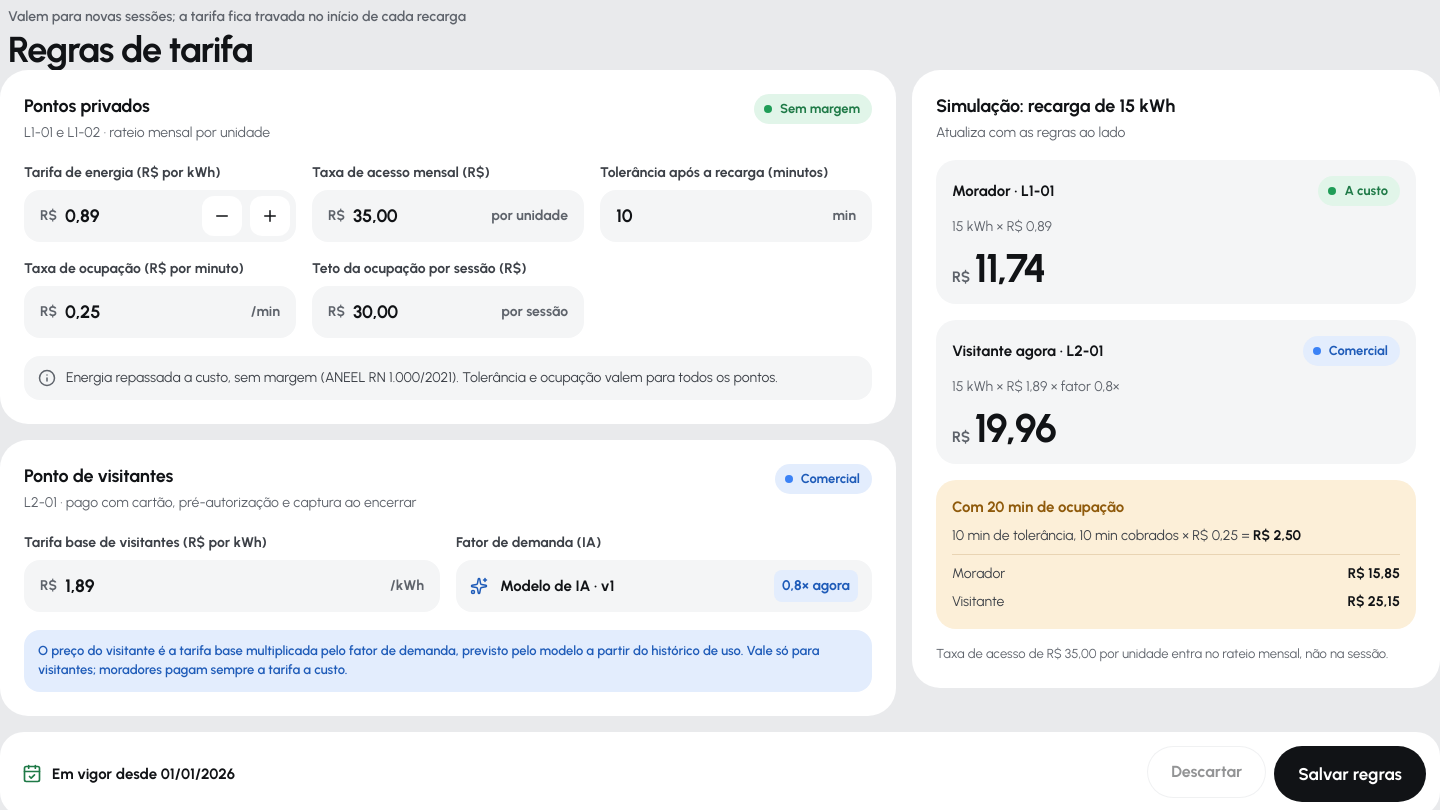
RulesRoute › shows an error toast when the API rejects the change
This screenshot has width=1440, height=810.
Replace the text in the field labelled "Taxa de ocupação (R$ por minuto)" with "0,30": (154, 312) [65,286,243,338]
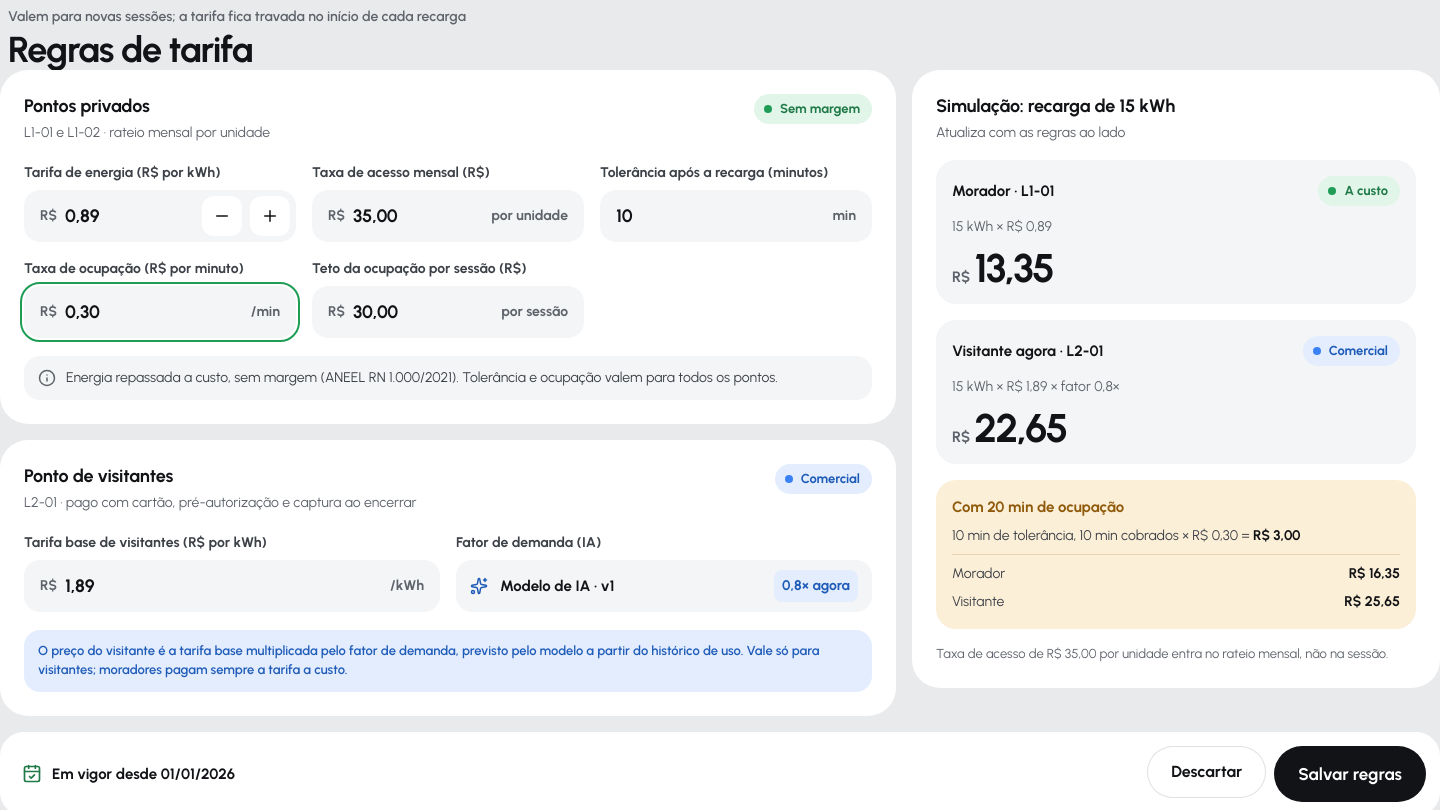
Click the button "Salvar regras": (1350, 774) [1274,746,1426,802]
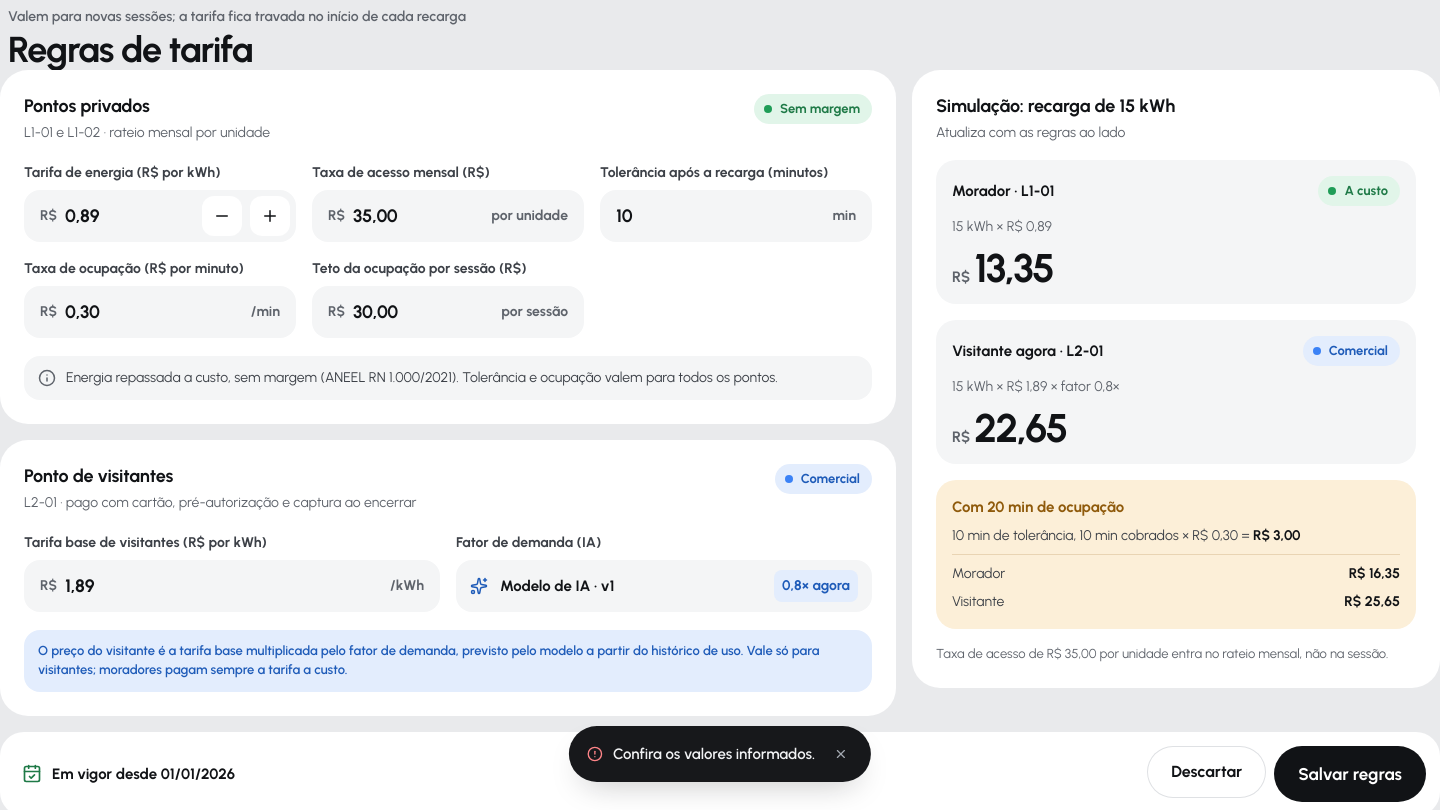
Now the text "Confira os valores informados." is shown, box [613,743,815,765]
